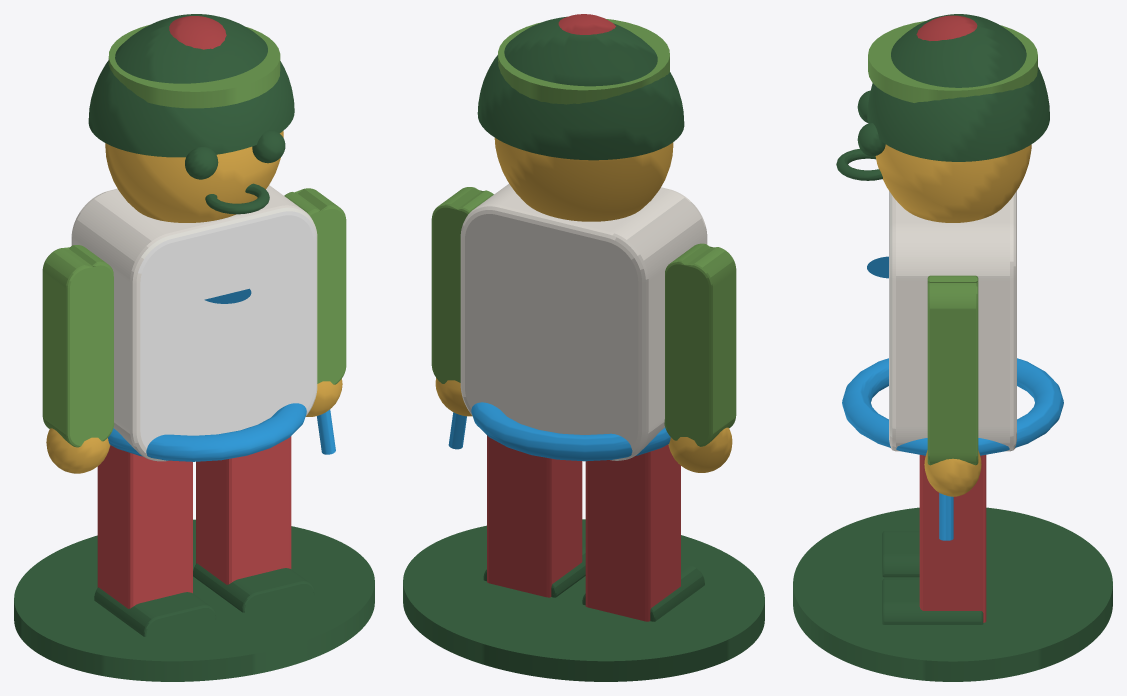
File: 1178_唐图鉴_唐太宗.glb
The picture shows the model from 3 angles, left to right: view 1: azimuth 30°, elevation 25°; view 2: azimuth 150°, elevation 25°; view 3: azimuth 270°, elevation 25°; orthographic projection.
Parts seen in each view (by area): view 1: card_1178; view 2: card_1178; view 3: card_1178.
Boxes of the visible parts, x1,y1,x2,y2 form: card_1178: [14, 14, 374, 681]; card_1178: [403, 14, 764, 681]; card_1178: [793, 14, 1112, 681].
Size of the model in its own units: 0.5602 by 1 by 0.4863.
